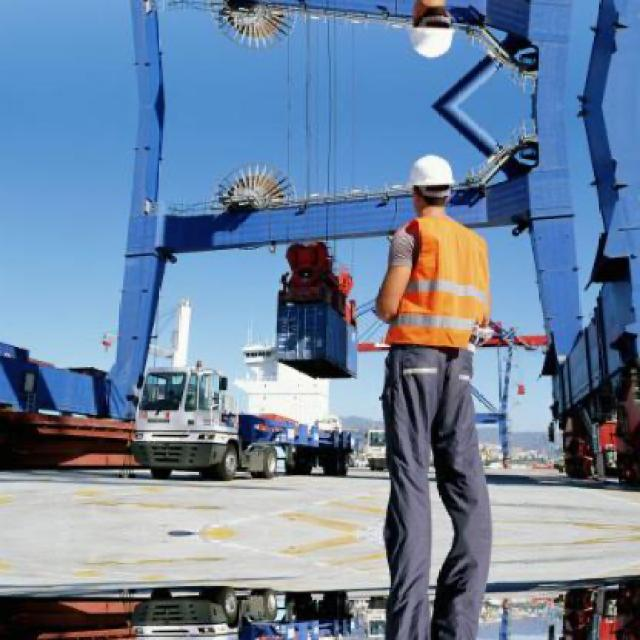con casco: (375, 151, 491, 250)
